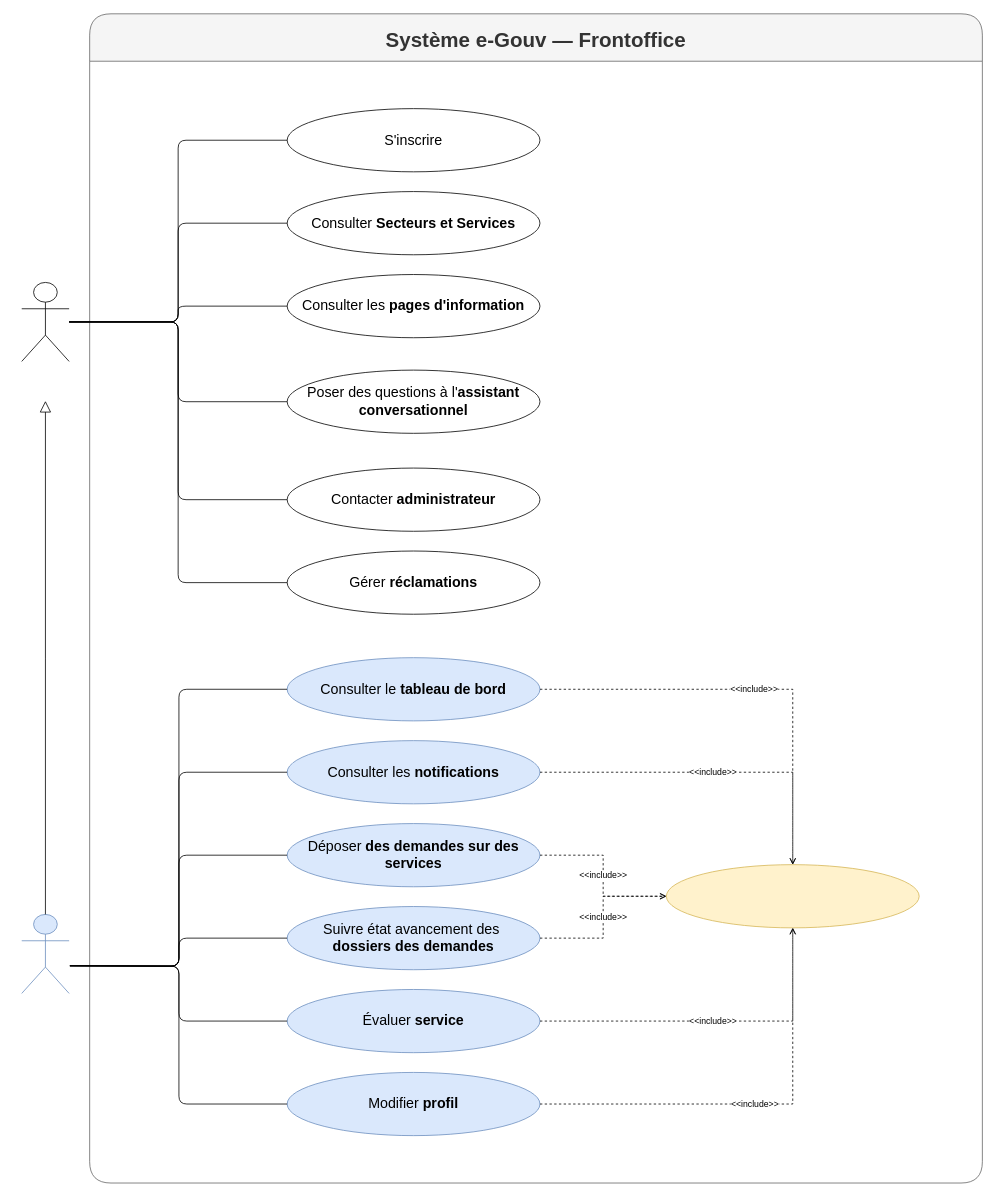
Some shapes in this 996 by 1197 pixel diagram are drawn without their labels. The shapes that lost their labels are listed below. From the top down, each one's box as (x1, y1, x2, y2) in pixels, then its label:
(21, 282, 69, 361): Internaute
(666, 864, 919, 928): S'authentifier
(21, 914, 69, 993): Client
